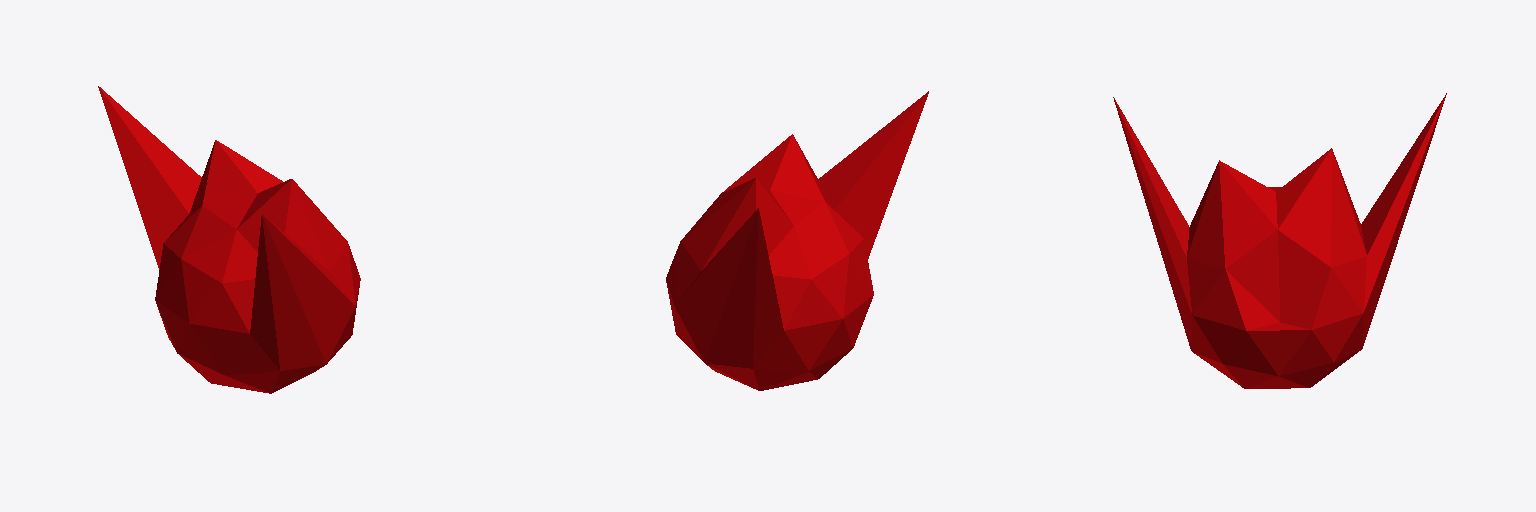
File: weirdo.obj
3 views of the same model, side by side, from view 1: azimuth 30°, elevation 25°; view 2: azimuth 150°, elevation 25°; view 3: azimuth 270°, elevation 25° (orthographic).
Parts seen in each view (by area): view 1: Icosphere; view 2: Icosphere; view 3: Icosphere.
Part boxes in pixels (left/top/right/bottom): Icosphere: left=98, top=86, right=360, bottom=393; Icosphere: left=666, top=91, right=928, bottom=390; Icosphere: left=1113, top=93, right=1446, bottom=388.
Bounding box in the file's own units: 1.92 × 2.67 × 3.17.